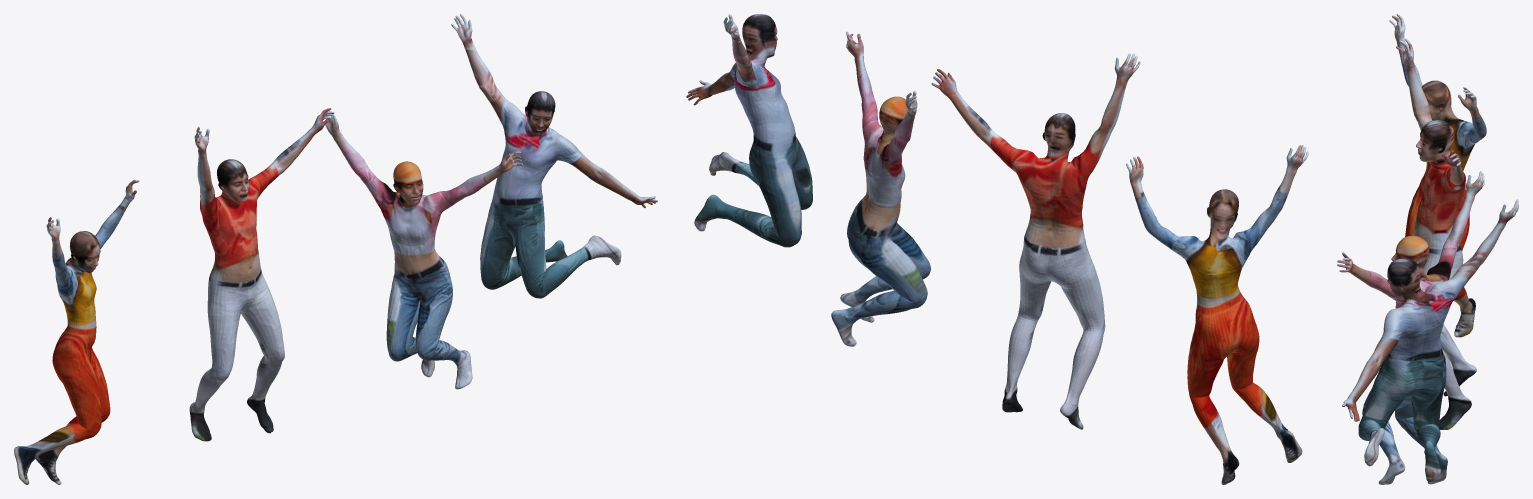
Rendered from hero.glb.
3 renders of one model, left to right at view 1: azimuth 30°, elevation 25°; view 2: azimuth 150°, elevation 25°; view 3: azimuth 270°, elevation 25°, orthographic. The views are drawn at different scales.
Parts seen in each view (by area): view 1: person_04, person_01, person_02, person_00; view 2: person_01, person_00, person_02, person_04; view 3: person_04, person_01, person_02, person_00.
Part boxes in pixels (x1=…): person_04: x1=451, y1=14, x2=657, y2=298; person_01: x1=189, y1=108, x2=334, y2=441; person_02: x1=322, y1=110, x2=522, y2=389; person_00: x1=14, y1=179, x2=139, y2=484; person_01: x1=931, y1=53, x2=1140, y2=429; person_00: x1=1126, y1=145, x2=1308, y2=484; person_02: x1=831, y1=31, x2=930, y2=346; person_04: x1=686, y1=14, x2=812, y2=247; person_04: x1=1342, y1=199, x2=1518, y2=481; person_01: x1=1396, y1=38, x2=1476, y2=429; person_02: x1=1337, y1=171, x2=1484, y2=484; person_00: x1=1389, y1=14, x2=1486, y2=337.
Bounding box in the file's own units: 3.93 × 2.17 × 1.01.
Materials: 1 (1 with a texture image).
